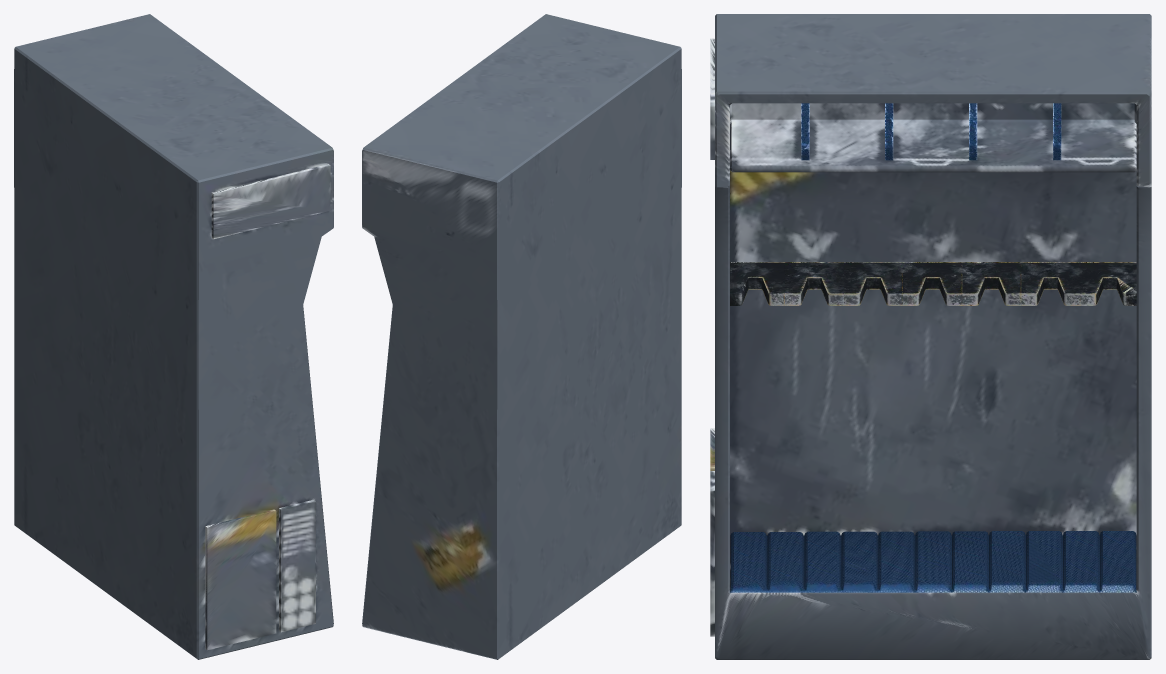
The model's file is weapon-rack.glb.
The picture shows the model from 3 angles, left to right: view 1: azimuth 30°, elevation 25°; view 2: azimuth 150°, elevation 25°; view 3: azimuth 270°, elevation 25°; orthographic projection. The views are drawn at different scales.
Parts seen in each view (by area): view 1: CAISSE _M_BASE_0; view 2: CAISSE _M_BASE_0; view 3: CAISSE _M_BASE_0, CAISSE _M_SOCLE_0, CAISSE _M_SUPPORT_0, CAISSE _M_ARMOIR_0.
Part boxes in pixels (box(x1,y1,x2,y2)): CAISSE _M_BASE_0: box(14, 14, 333, 659); CAISSE _M_BASE_0: box(362, 14, 681, 659); CAISSE _M_BASE_0: box(710, 14, 1151, 659); CAISSE _M_SOCLE_0: box(730, 531, 1136, 592); CAISSE _M_SUPPORT_0: box(730, 262, 1136, 305); CAISSE _M_ARMOIR_0: box(801, 103, 1061, 160).
Bounding box in the file's own units: 1.6 × 5.33 × 3.76.
5 materials, 4 textured.
